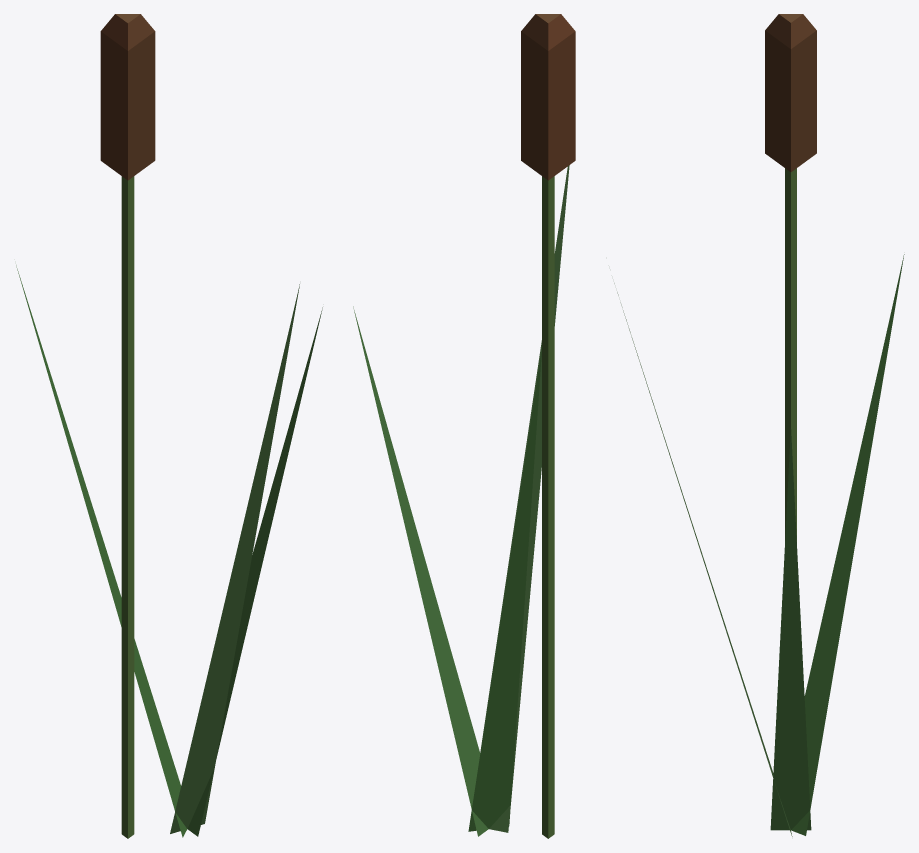
The model's file is cattails_lod1.glb.
3 views of the same model, side by side, from view 1: azimuth 30°, elevation 25°; view 2: azimuth 150°, elevation 25°; view 3: azimuth 270°, elevation 25° (orthographic). The views are drawn at different scales.
Parts seen in each view (by area): view 1: cattails_lod1; view 2: cattails_lod1; view 3: cattails_lod1.
Part boxes in pixels (<box>): cattails_lod1: <box>16,14,322,838</box>; cattails_lod1: <box>353,14,575,838</box>; cattails_lod1: <box>614,14,904,836</box>.
Size of the model in its own units: 0.5043 by 1.6 by 0.5534.
